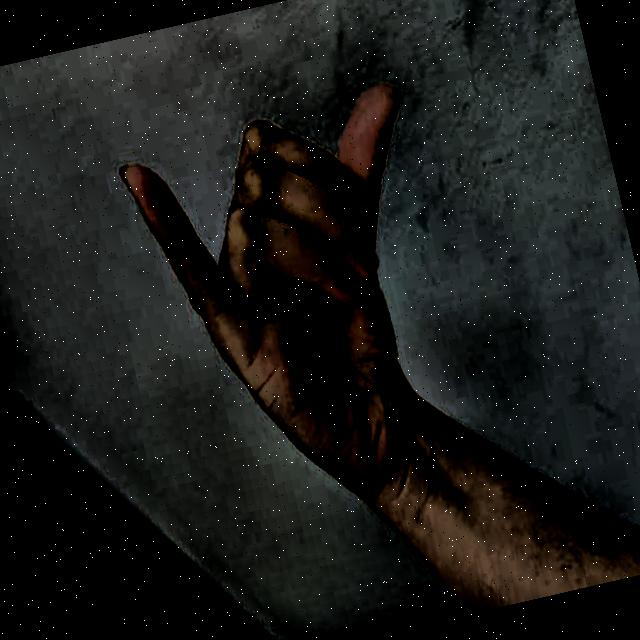Oi: (83, 35, 516, 569)
